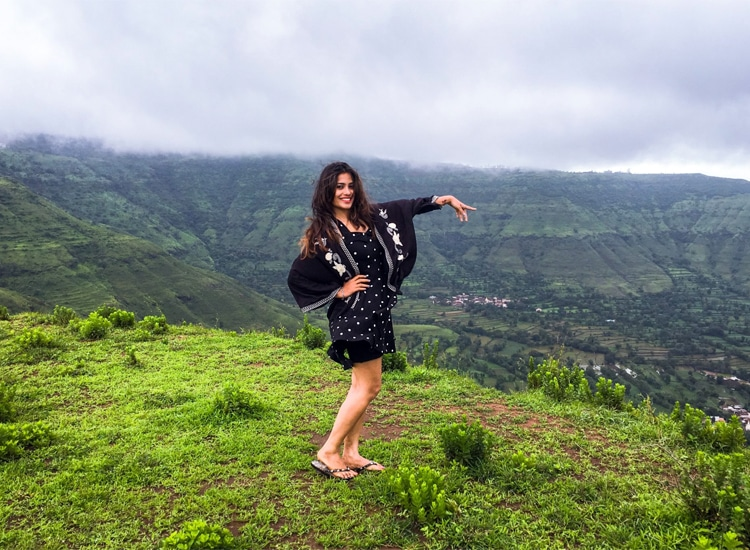person: (319, 161, 373, 218)
